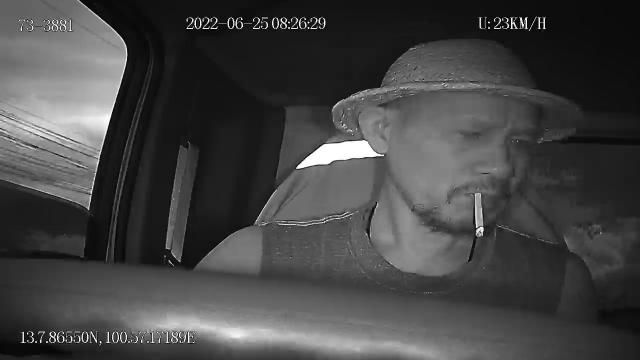Cigarette: (474, 192, 484, 238)
